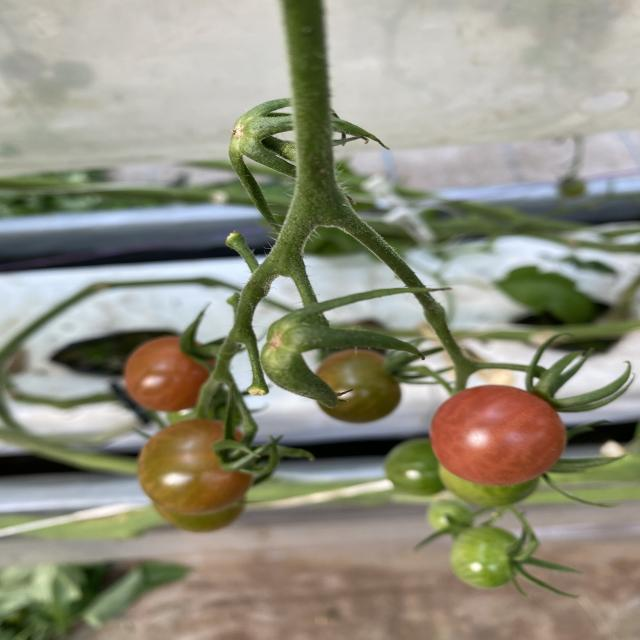c-half-riped: (138, 419, 252, 531), (126, 336, 215, 410)
c-riped: (429, 384, 567, 486)
c-unriped: (316, 350, 400, 424), (438, 462, 539, 508), (450, 526, 523, 587)
